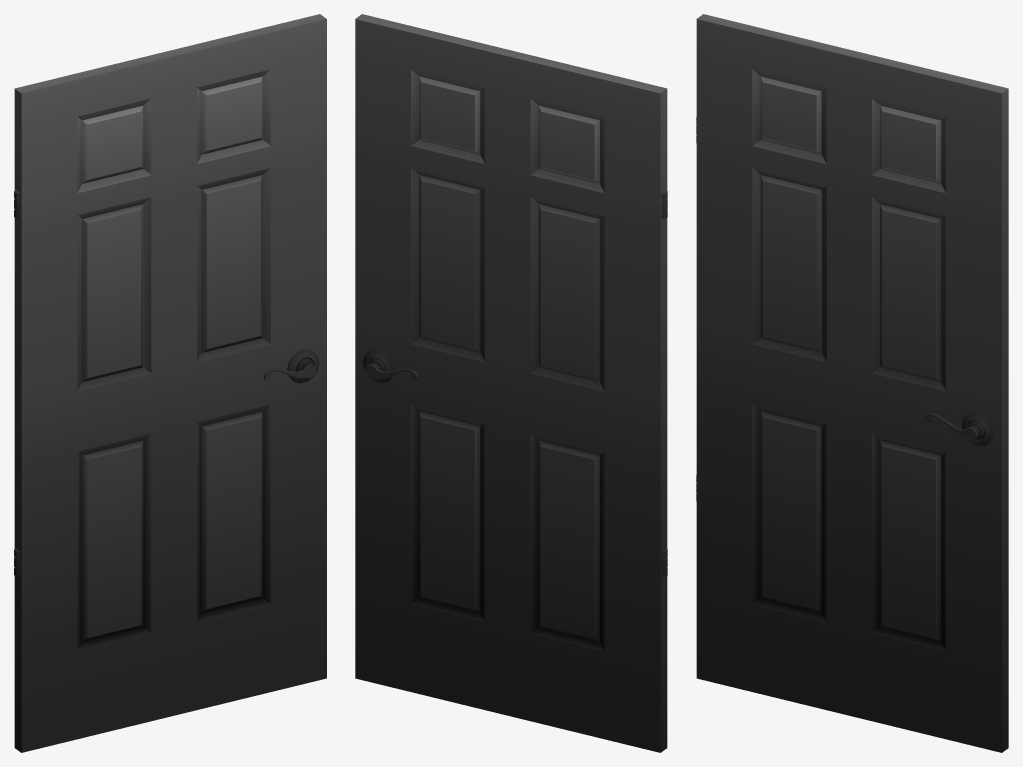
The model's file is Door_02.fbx.
3 renders of one model, left to right at view 1: azimuth 30°, elevation 25°; view 2: azimuth 150°, elevation 25°; view 3: azimuth 330°, elevation 25°, orthographic.
Parts seen in each view (by area): view 1: door2; view 2: door2; view 3: door2.
Boxes of the visible parts, bbox=[...] form: door2: bbox=[14, 14, 326, 752]; door2: bbox=[355, 14, 667, 752]; door2: bbox=[696, 14, 1008, 752].
Size of the model in its own units: 0.9691 by 1.98 by 0.1198.
